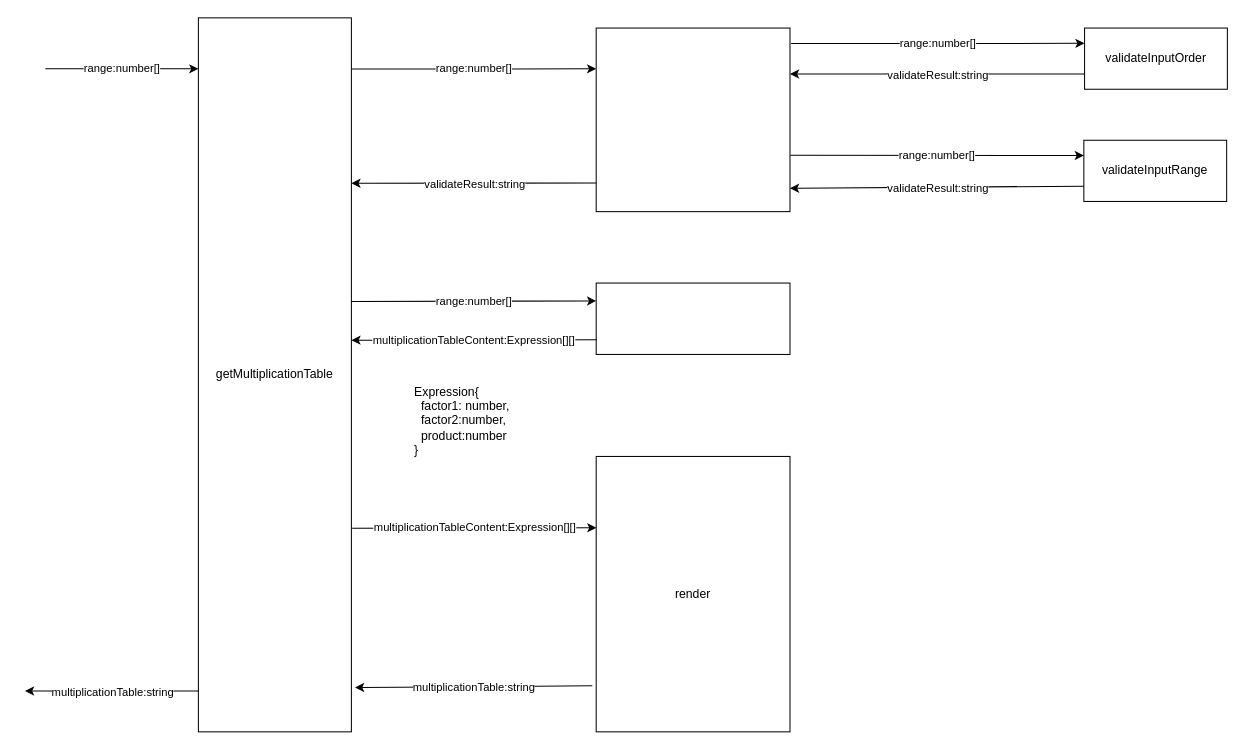
The diagram is 1245 pixels wide and 750 high, and some of its shapes have lost their labels. The shapes that lost their labels are listed below. From the top down, each one's box as (x1, y1, x2, y2) in pixels, then its label:
(595, 27, 790, 212): validateInput
(595, 282, 790, 354): getMultiplicationTableStringList
